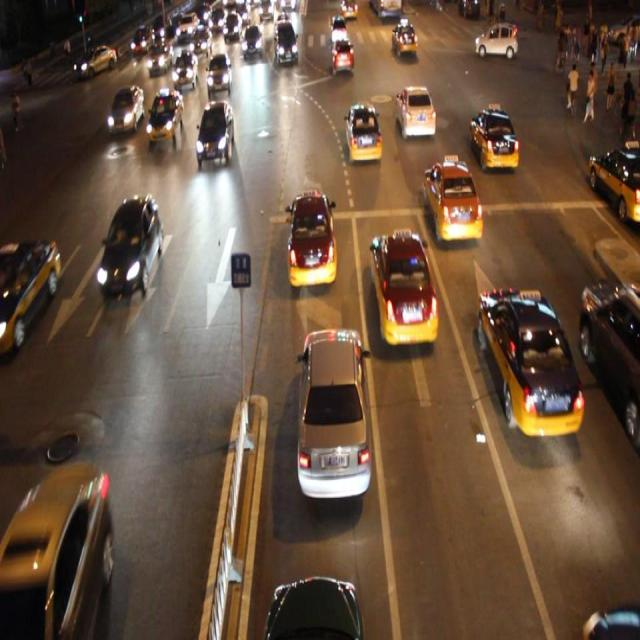car: (1, 463, 109, 640), (479, 287, 582, 440), (297, 327, 370, 493), (580, 281, 640, 425), (371, 228, 436, 346), (1, 237, 59, 352), (266, 571, 360, 640), (98, 196, 160, 296), (422, 157, 482, 244), (287, 189, 337, 284), (586, 138, 640, 219), (470, 104, 518, 171), (197, 100, 233, 163), (345, 103, 382, 164), (397, 82, 435, 138), (148, 89, 182, 144), (107, 88, 141, 135), (206, 54, 232, 94), (331, 36, 354, 74), (173, 51, 196, 86), (148, 42, 172, 74)
